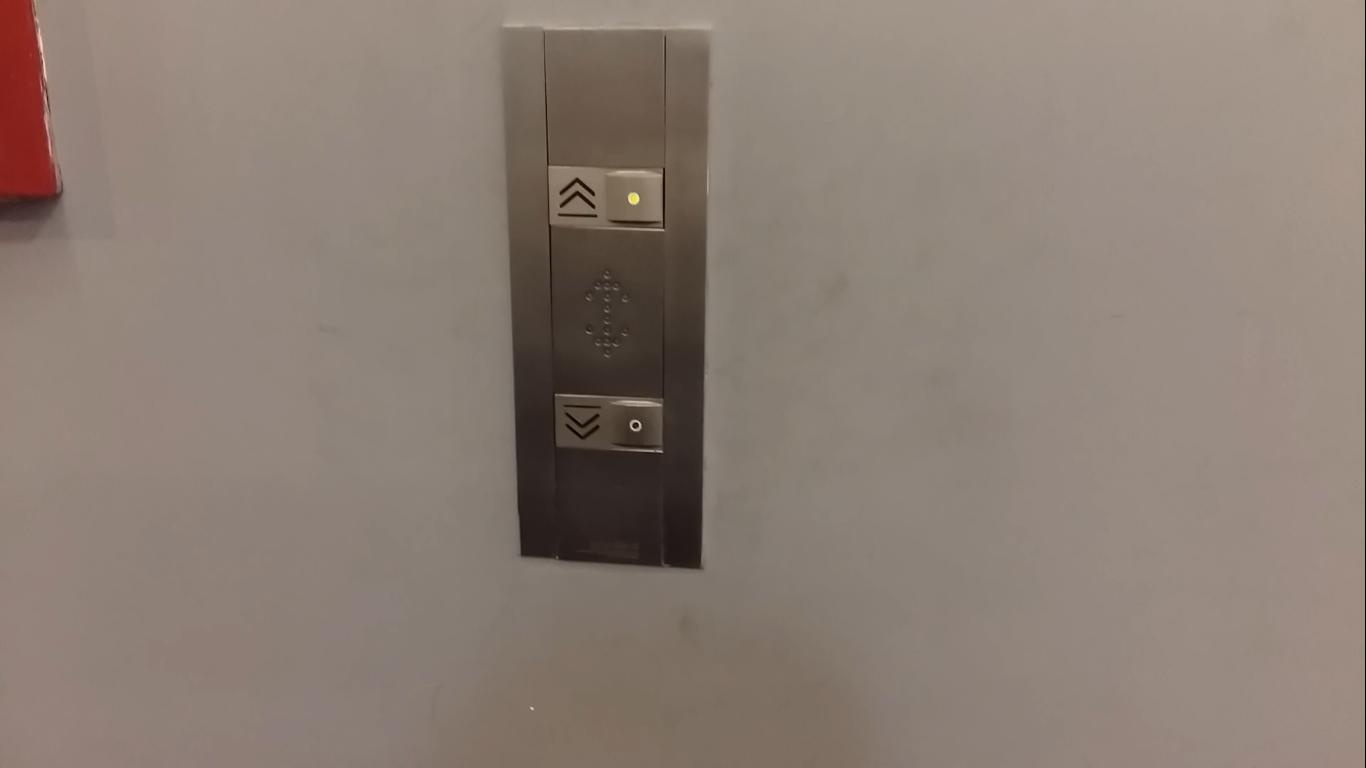down: (550, 389, 670, 459)
up: (545, 162, 675, 236)
